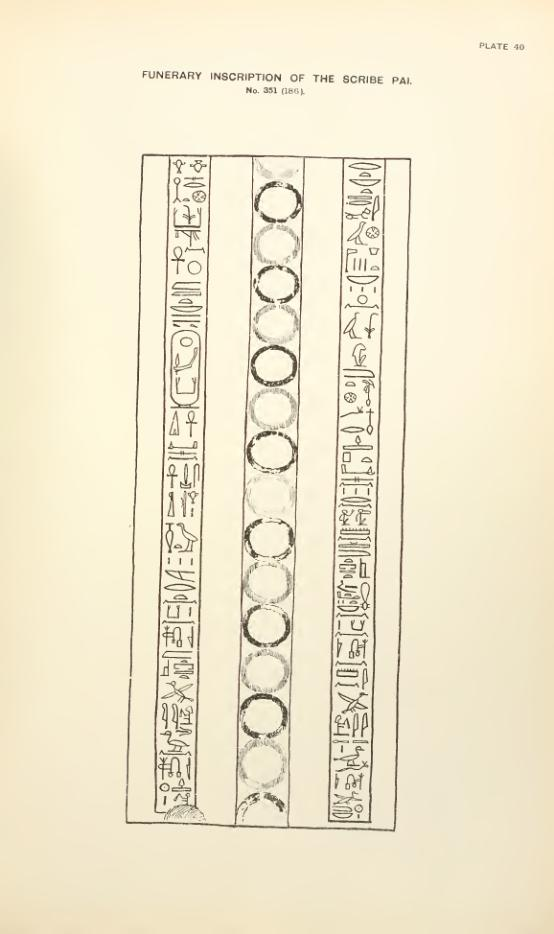circle: (168, 329, 203, 411)
